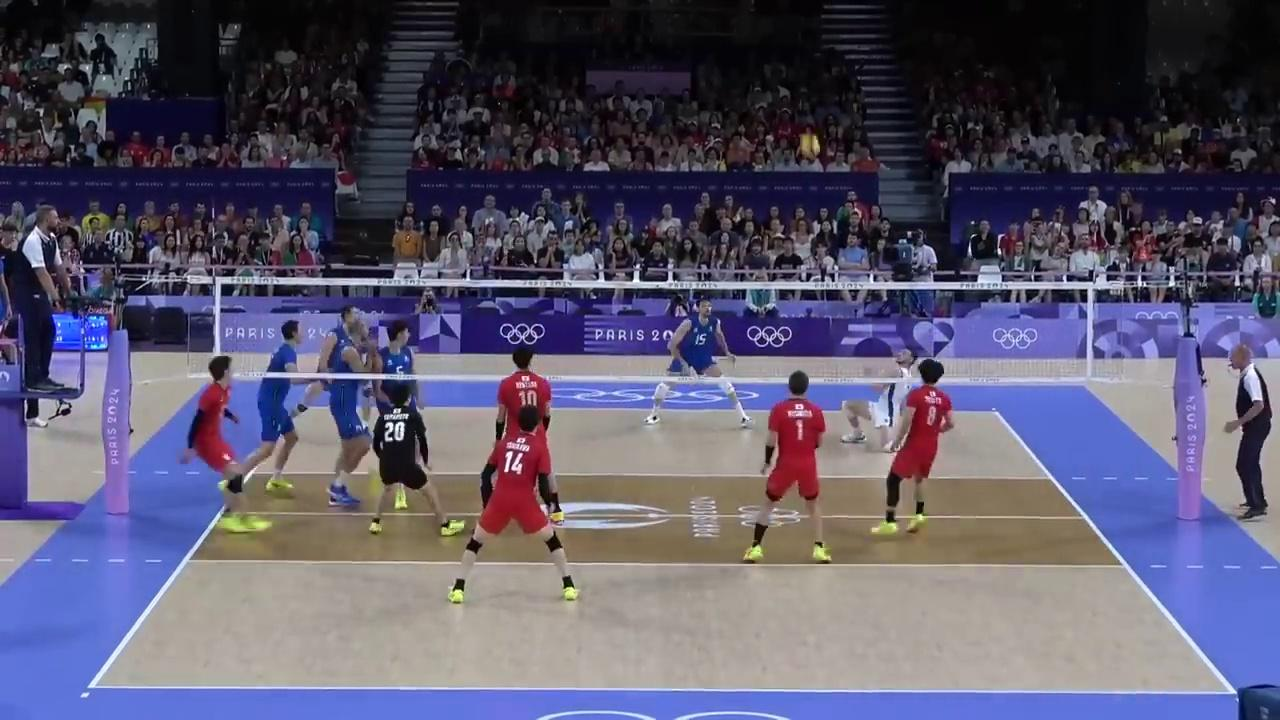ball: (801, 136, 820, 160)
